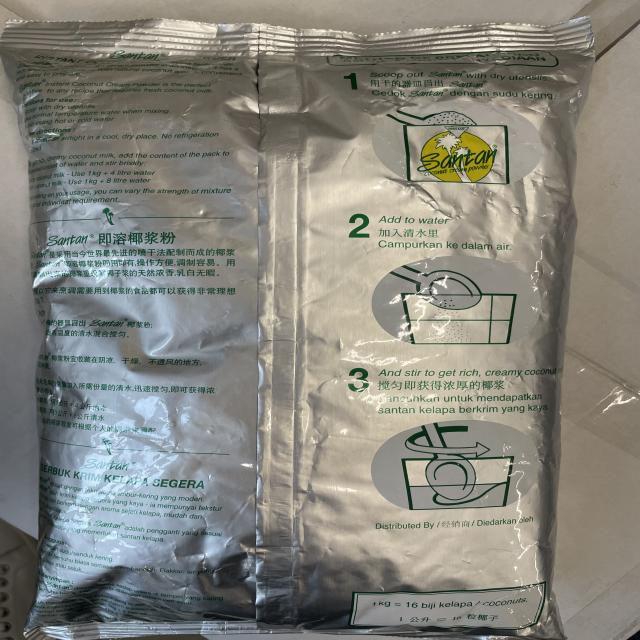object_name: (30, 35, 555, 640)
